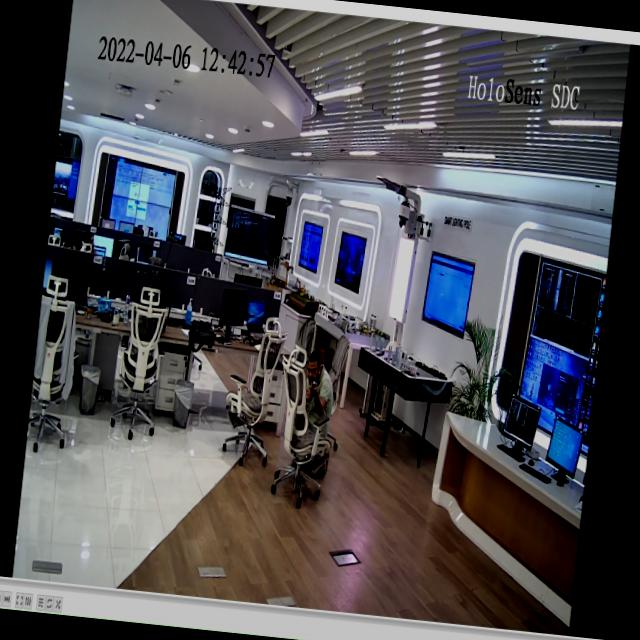long weapon: (305, 372, 321, 402)
